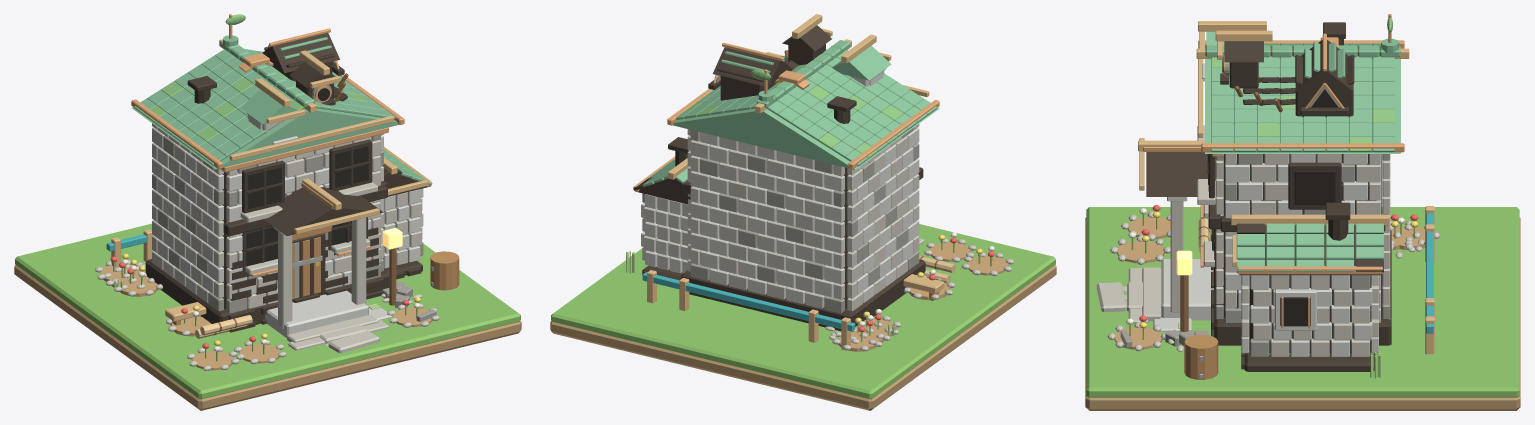
Rendered from stone_house_l04_damaged.glb.
The picture shows the model from 3 angles, left to right: view 1: azimuth 30°, elevation 25°; view 2: azimuth 150°, elevation 25°; view 3: azimuth 270°, elevation 25°; orthographic projection. The views are drawn at different scales.
Parts seen in each view (by area): view 1: stone_house_component_pilot_grass_tile.006, stone_house_component_pilot_earth_tile.006, pilot_stone_house_l04_roof_gable_roof.001, pilot_stone_house_l04_porch_canopy_gable_roof.001, pilot_stone_house_l04_porch_landing.001, pilot_stone_house_l04_spec_stone_block_medium_medium_foundat, pilot_stone_house_l04_porch_stone_column_1.001, pilot_stone_house_l04_porch_stone_column_-1.001, pilot_stone_house_l04_side_dormer_green_gable.001, pilot_stone_house_l04_roof_roof_front_trim.001, pilot_stone_house_l04_yard_barrel_barrel_body.001, pilot_stone_house_l04_second_storey_upper_window_-1_window_p (+18 smaller); view 2: stone_house_component_pilot_grass_tile.006, stone_house_component_pilot_earth_tile.006, pilot_stone_house_l04_roof_gable_roof.001, pilot_stone_house_l04_spec_stone_block_medium_medium_foundat, pilot_stone_house_l04_yard_fence_rail.001, pilot_stone_house_l04_side_dormer_green_gable.001, pilot_stone_house_l04_roof_dormer_gable_roof.001, pilot_stone_house_l04_side_dormer_stone_cheek.001, pilot_stone_house_l04_right_annex_roof_gable_roof.001, pilot_stone_house_l04_roof_eave_-1.001, pilot_stone_house_l04_round_attic_window_little_green_roof_g, pilot_stone_house_l04_flowers_planted_bed_0_ring_soil.001 (+4 smaller); view 3: stone_house_component_pilot_grass_tile.006, stone_house_component_pilot_earth_tile.006, pilot_stone_house_l04_porch_canopy_gable_roof.001, pilot_stone_house_l04_roof_gable_roof.001, pilot_stone_house_l04_right_annex_foundation_stone_block_low, pilot_stone_house_l04_porch_landing.001, pilot_stone_house_l04_yard_barrel_barrel_body.001, pilot_stone_house_l04_second_storey_right_upper_window_glass, pilot_stone_house_l04_right_annex_roof_roof_ridge.001, pilot_stone_house_l04_roof_eave_+1.001, pilot_stone_house_l04_spec_stone_block_medium_medium_foundat, pilot_stone_house_l04_porch_stone_column_1.001 (+40 smaller).
Boxes of the visible parts, x1,y1,x2,y2 form: stone_house_component_pilot_grass_tile.006: (15, 223, 520, 399); stone_house_component_pilot_earth_tile.006: (14, 265, 521, 410); pilot_stone_house_l04_roof_gable_roof.001: (132, 49, 398, 169); pilot_stone_house_l04_porch_canopy_gable_roof.001: (264, 187, 383, 235); pilot_stone_house_l04_porch_landing.001: (265, 290, 368, 337); pilot_stone_house_l04_spec_stone_block_medium_medium_foundat: (145, 259, 389, 324); pilot_stone_house_l04_porch_stone_column_1.001: (351, 217, 366, 304); pilot_stone_house_l04_porch_stone_column_-1.001: (278, 231, 292, 329); pilot_stone_house_l04_side_dormer_green_gable.001: (262, 33, 339, 73); pilot_stone_house_l04_roof_roof_front_trim.001: (229, 115, 393, 160); pilot_stone_house_l04_yard_barrel_barrel_body.001: (430, 251, 459, 290); pilot_stone_house_l04_second_storey_upper_window_-1_window_p: (248, 167, 281, 208); stone_house_component_pilot_grass_tile.006: (551, 224, 1055, 399); stone_house_component_pilot_earth_tile.006: (550, 265, 1056, 410); pilot_stone_house_l04_roof_gable_roof.001: (672, 50, 939, 169); pilot_stone_house_l04_spec_stone_block_medium_medium_foundat: (681, 259, 925, 331); pilot_stone_house_l04_yard_fence_rail.001: (642, 272, 855, 331); pilot_stone_house_l04_side_dormer_green_gable.001: (712, 47, 792, 87); pilot_stone_house_l04_roof_dormer_gable_roof.001: (832, 45, 891, 80); pilot_stone_house_l04_side_dormer_stone_cheek.001: (720, 73, 776, 100); pilot_stone_house_l04_right_annex_roof_gable_roof.001: (635, 178, 690, 204); pilot_stone_house_l04_roof_eave_-1.001: (848, 100, 939, 169); pilot_stone_house_l04_round_attic_window_little_green_roof_g: (782, 25, 831, 51); pilot_stone_house_l04_flowers_planted_bed_0_ring_soil.001: (967, 256, 1008, 275); stone_house_component_pilot_grass_tile.006: (1086, 207, 1519, 397); stone_house_component_pilot_earth_tile.006: (1085, 217, 1520, 410); pilot_stone_house_l04_porch_canopy_gable_roof.001: (1146, 152, 1224, 196); pilot_stone_house_l04_roof_gable_roof.001: (1205, 48, 1400, 153); pilot_stone_house_l04_right_annex_foundation_stone_block_low: (1244, 338, 1374, 371); pilot_stone_house_l04_porch_landing.001: (1161, 259, 1213, 320); pilot_stone_house_l04_yard_barrel_barrel_body.001: (1184, 334, 1218, 379); pilot_stone_house_l04_second_storey_right_upper_window_glass: (1294, 170, 1335, 204); pilot_stone_house_l04_right_annex_roof_roof_ridge.001: (1231, 214, 1389, 225); pilot_stone_house_l04_roof_eave_+1.001: (1201, 143, 1404, 152); pilot_stone_house_l04_spec_stone_block_medium_medium_foundat: (1214, 230, 1391, 345); pilot_stone_house_l04_porch_stone_column_1.001: (1170, 201, 1183, 312).
Size of the model in its own units: 3.6 by 2.79 by 3.6.
